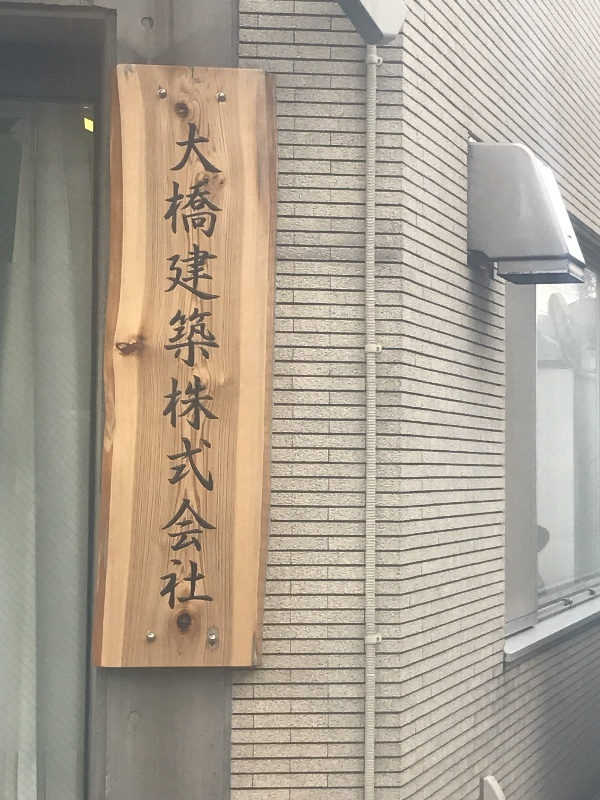text: (177, 121, 192, 616), (193, 121, 208, 616), (209, 121, 224, 616), (167, 121, 176, 616), (225, 121, 227, 616)
